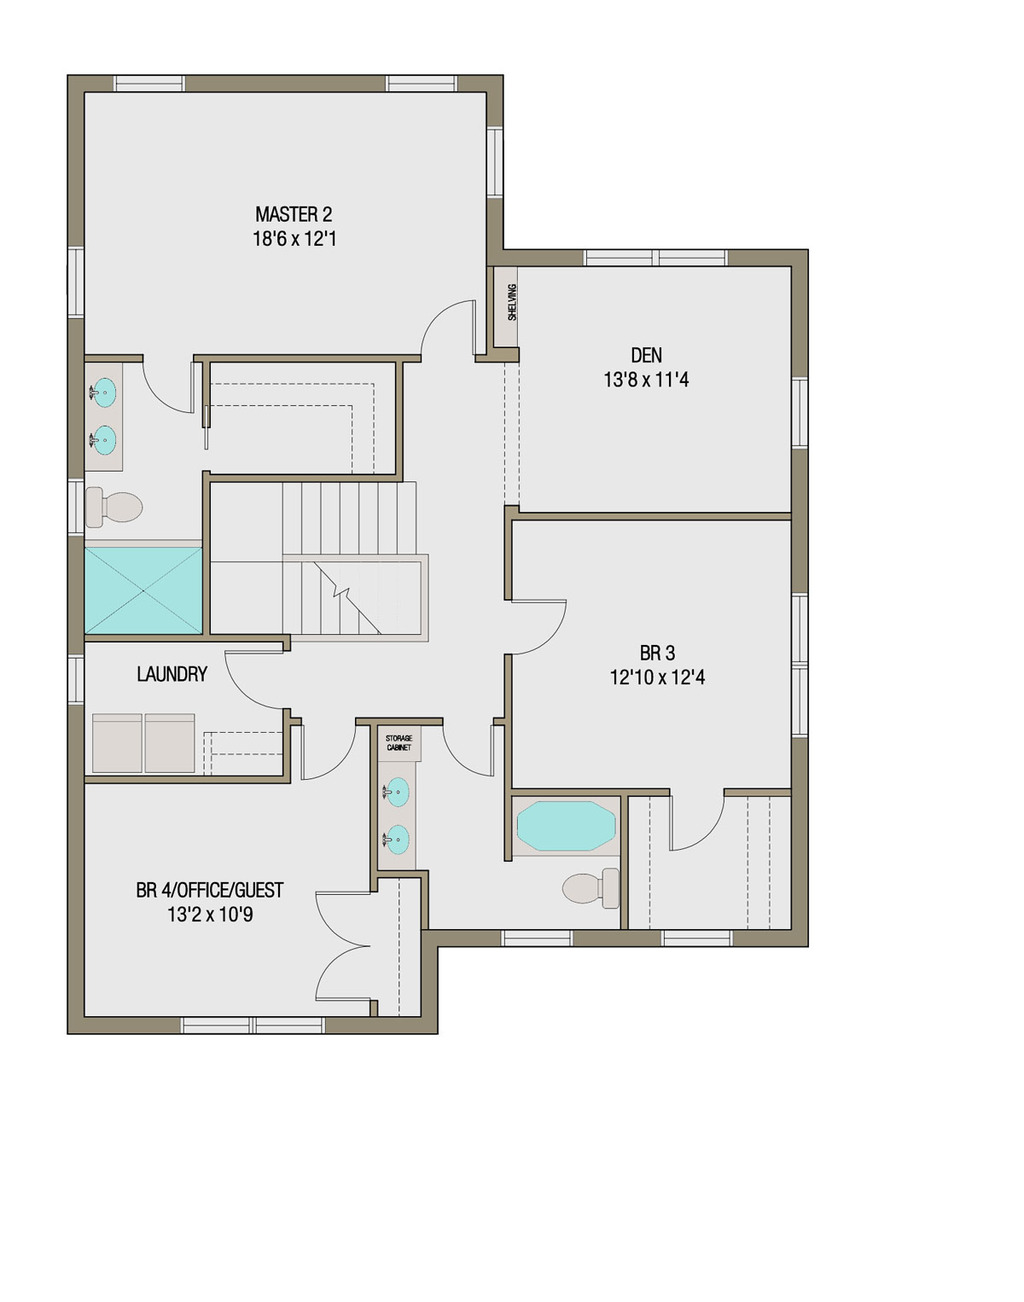door: (311, 891, 387, 997), (215, 637, 309, 715), (660, 765, 731, 864), (409, 289, 487, 362), (435, 709, 503, 789), (501, 583, 569, 663), (297, 719, 355, 787), (139, 351, 203, 409)
large_sink: (557, 869, 621, 933), (89, 489, 151, 541)
small_sink: (87, 357, 137, 473), (379, 754, 417, 871)
stairs: (209, 475, 449, 637)
tub: (505, 795, 631, 864)
window: (577, 232, 733, 275), (481, 123, 521, 211), (183, 1011, 325, 1035), (795, 597, 815, 734), (789, 377, 817, 459), (59, 245, 87, 325), (61, 475, 93, 533), (109, 75, 179, 99), (385, 69, 465, 89), (67, 651, 95, 707), (507, 925, 563, 951), (663, 927, 721, 947)
